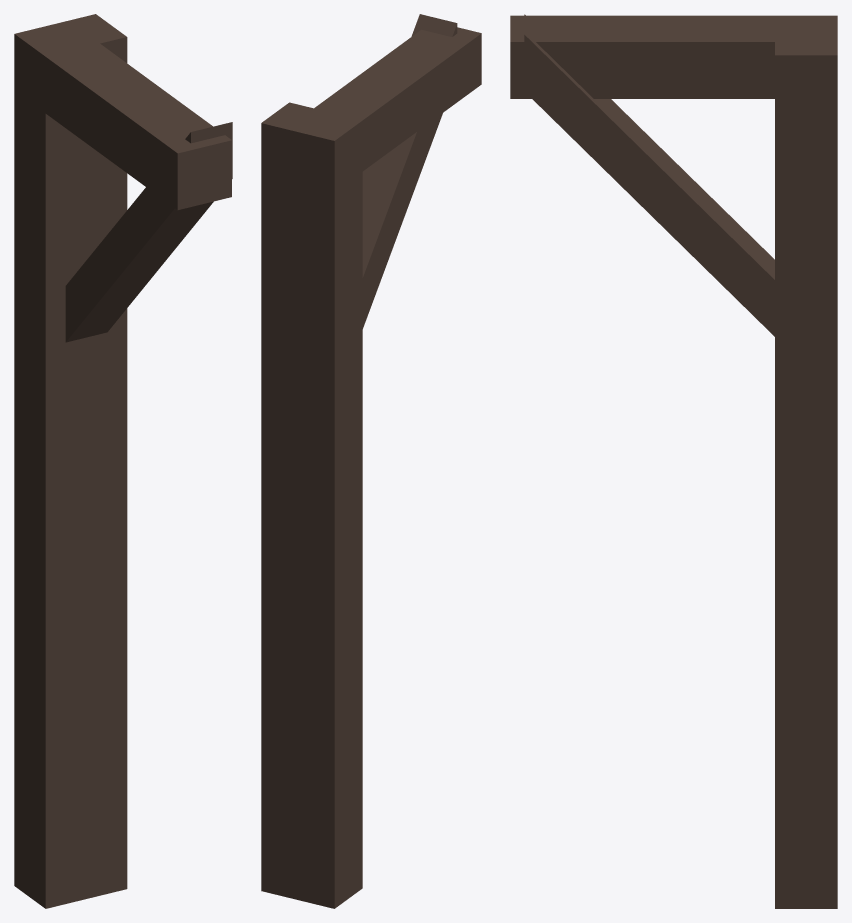
Rendered from M_Balk_L.fbx.
The picture shows the model from 3 angles, left to right: view 1: azimuth 30°, elevation 25°; view 2: azimuth 150°, elevation 25°; view 3: azimuth 270°, elevation 25°; orthographic projection. The views are drawn at different scales.
Visible parts, largest first — view 1: M_Balk_L; view 2: M_Balk_L; view 3: M_Balk_L.
Part boxes in pixels (x1,y1,x2,y2): M_Balk_L: (14, 14, 232, 908); M_Balk_L: (261, 14, 481, 908); M_Balk_L: (510, 14, 837, 908).
Bounding box in the file's own units: 60 × 608 × 209.
